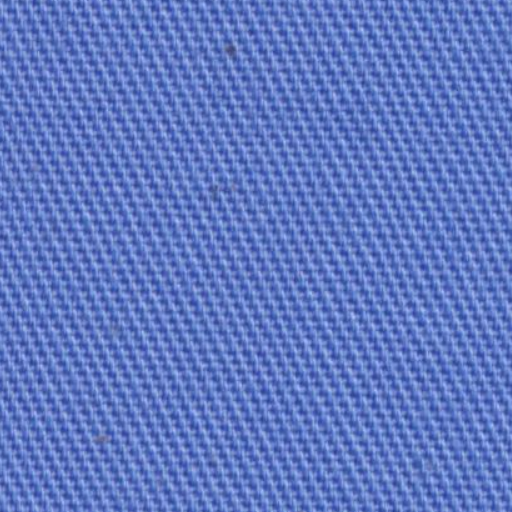WuZi: (192, 170, 260, 216), (84, 414, 136, 467), (197, 28, 256, 72)
